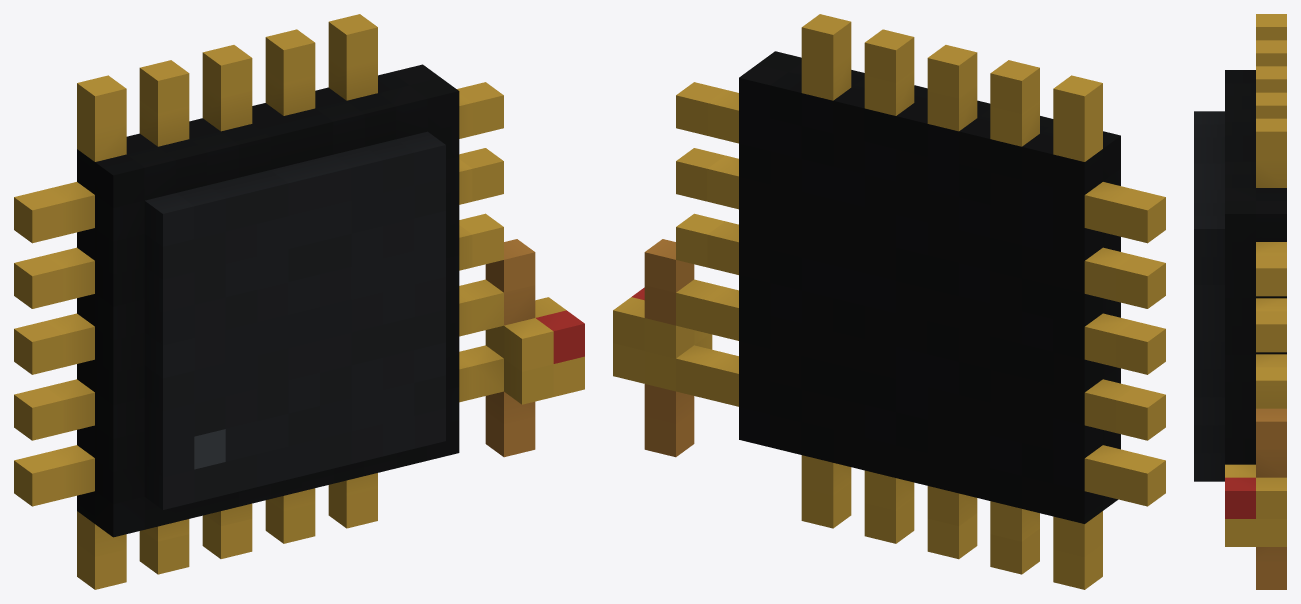
File: iconChip.glb
The picture shows the model from 3 angles, left to right: view 1: azimuth 30°, elevation 25°; view 2: azimuth 150°, elevation 25°; view 3: azimuth 270°, elevation 25°; orthographic projection. The views are drawn at different scales.
Parts seen in each view (by area): view 1: iconChip; view 2: iconChip; view 3: iconChip.
Boxes of the visible parts, x1,y1,x2,y2 form: iconChip: [14, 14, 584, 589]; iconChip: [613, 14, 1165, 589]; iconChip: [1194, 14, 1286, 589].
Bounding box in the file's own units: 1.7 × 1.5 × 0.3.
